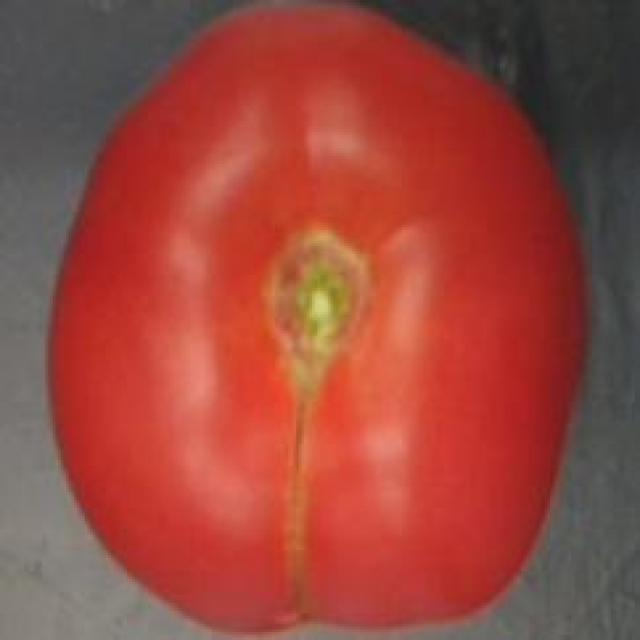ripe tomato: (45, 2, 587, 640)
